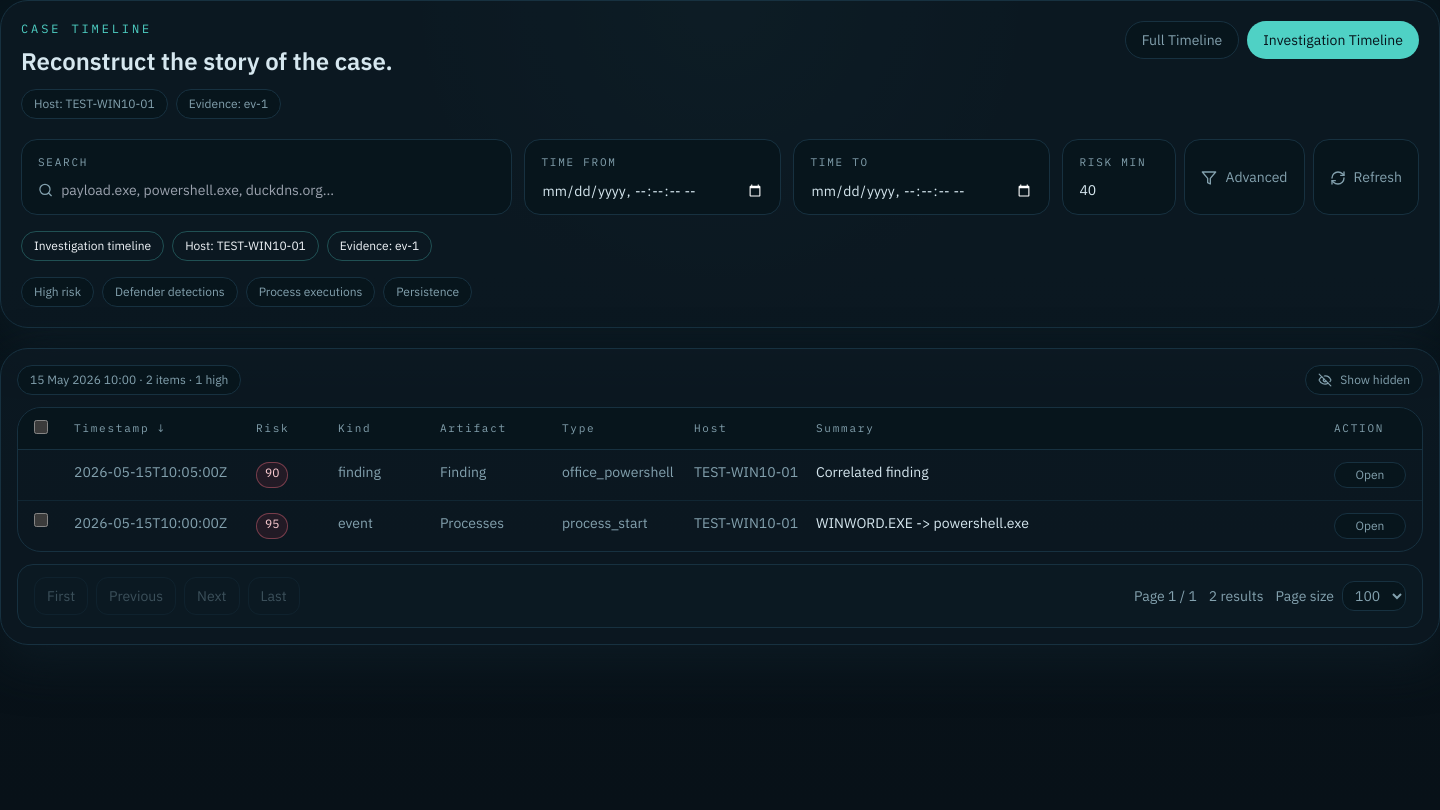
Scenario: TimelinePage › responsive detail drawer can close
Click the text "WINWORD.EXE -> powershell.exe". click: point(922, 522)
box: [816,514,1029,532]
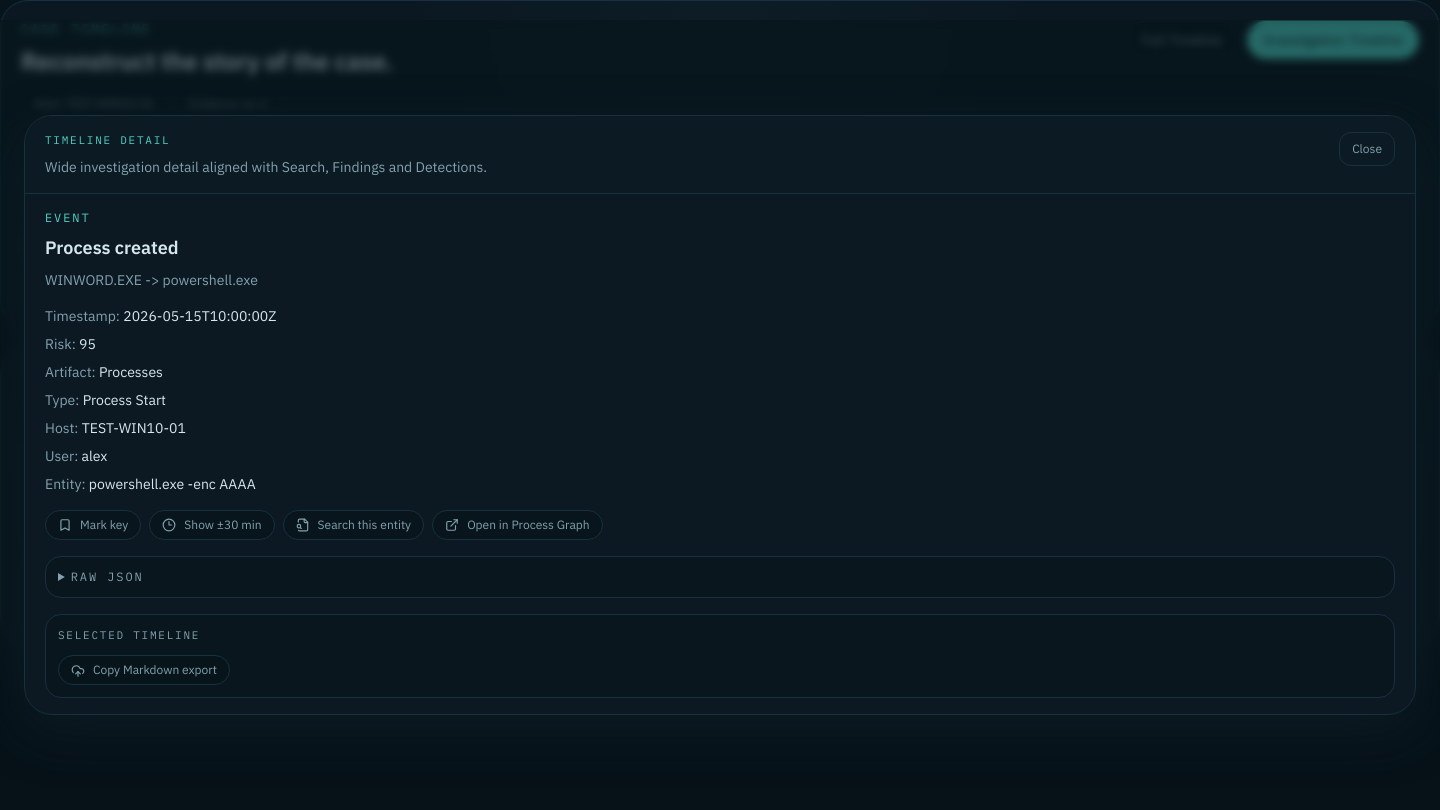
expect the element with test id "responsive-detail-overlay" is shown: met
Click the button with aria-label "close detail panel". click: point(1367, 149)
box: [1339,132,1395,166]
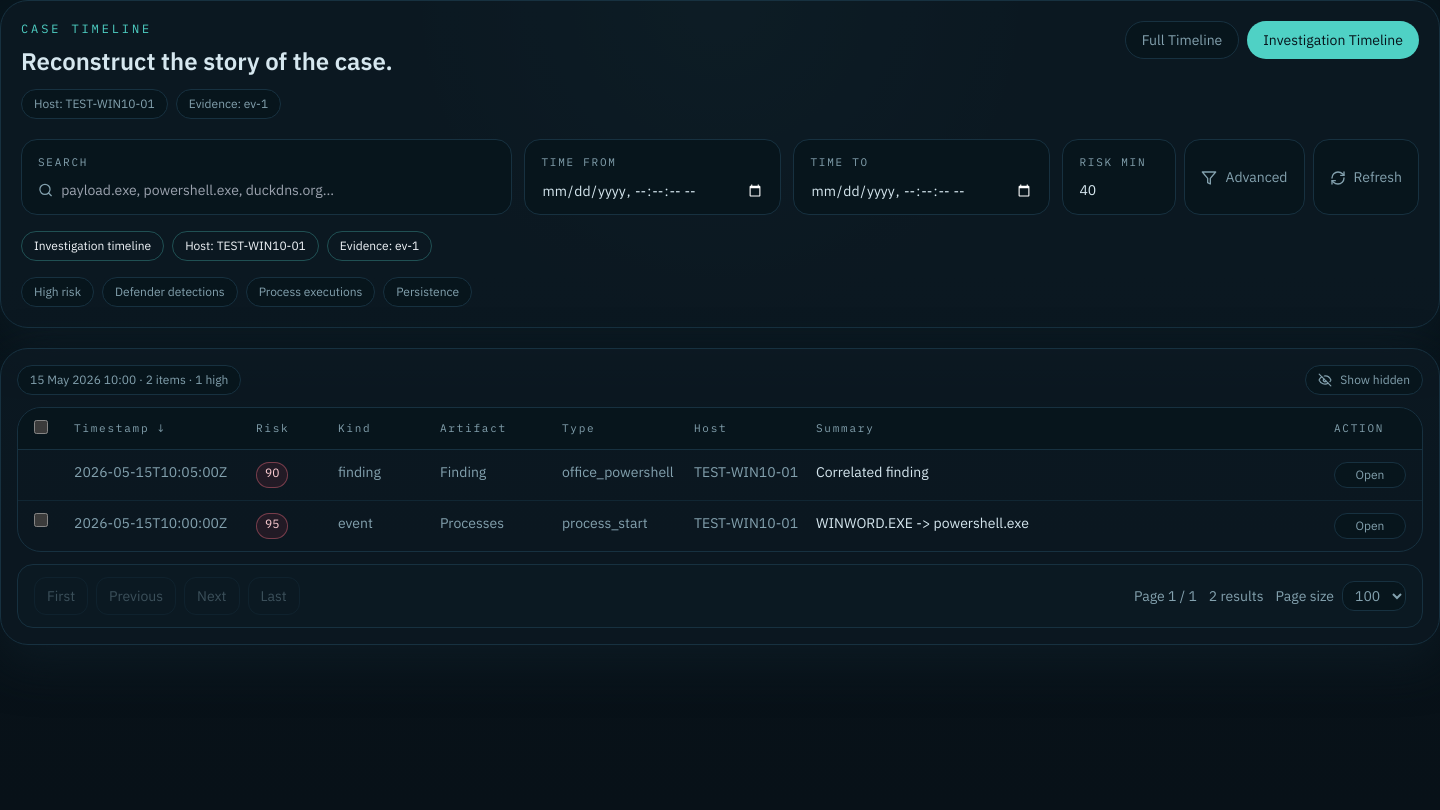
expect the element with test id "responsive-detail-overlay" is gone: met
